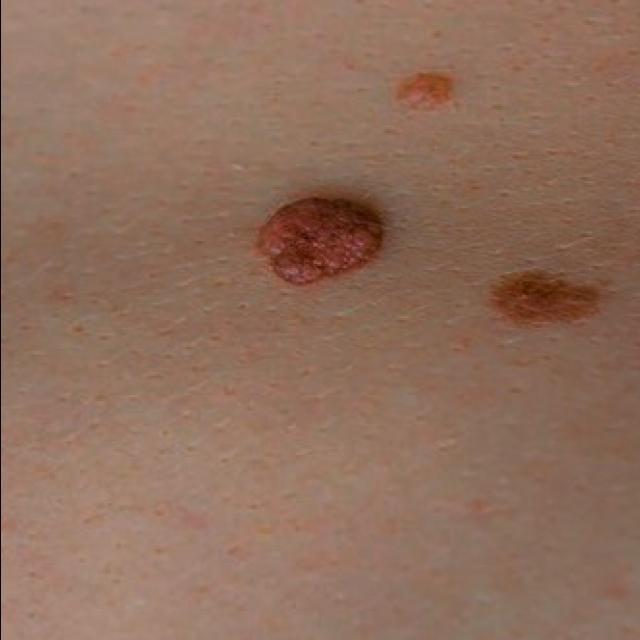wart: (266, 192, 388, 300)
